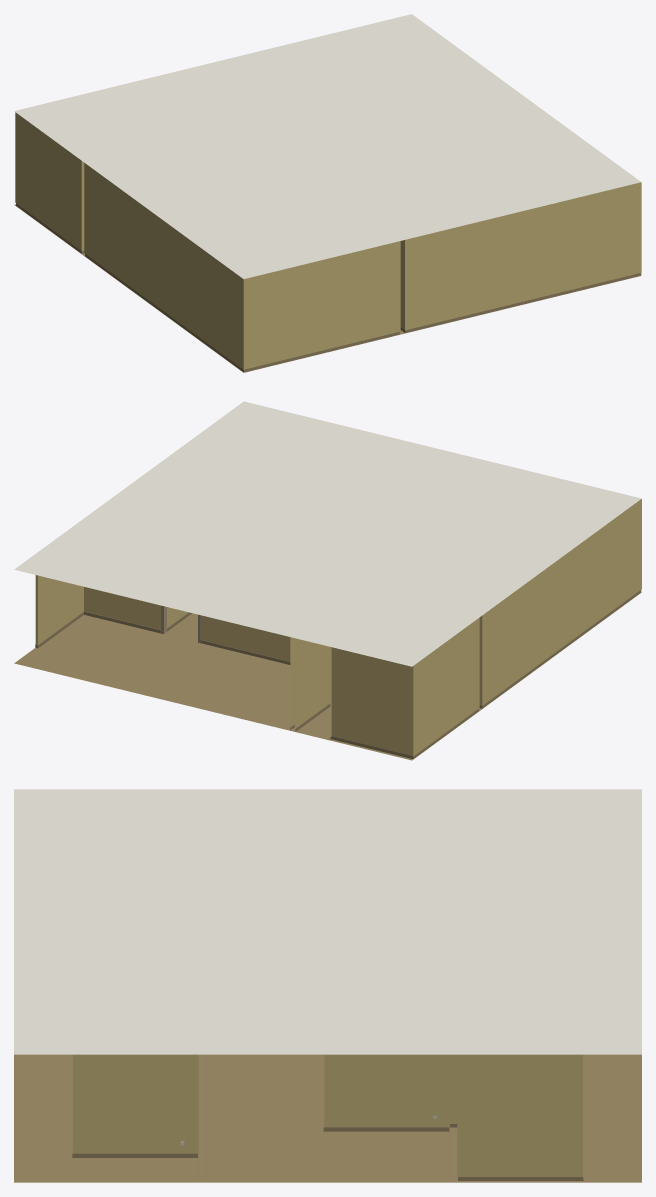
File: chunk_0_5.glb
3 views of the same model, one above another, from view 1: azimuth 30°, elevation 25°; view 2: azimuth 150°, elevation 25°; view 3: azimuth 270°, elevation 25° (orthographic). The views are drawn at different scales.
Parts seen in each view (by area): view 1: chunk_0_5; view 2: chunk_0_5; view 3: chunk_0_5.
Part boxes in pixels (x1,y1,x2,y2): chunk_0_5: (14, 14, 641, 372); chunk_0_5: (14, 401, 641, 760); chunk_0_5: (14, 789, 641, 1182).
Size of the model in its own units: 12.01 by 2.7 by 12.
